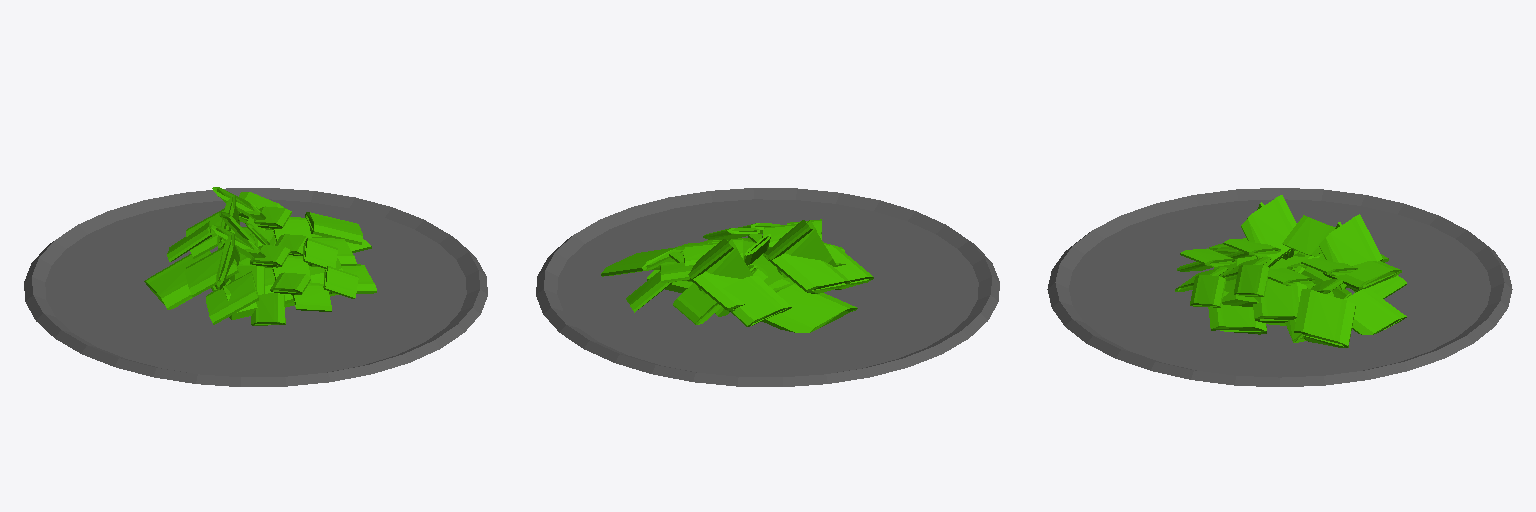
File: cutBeans.obj
The picture shows the model from 3 angles: view 1: azimuth 30°, elevation 25°; view 2: azimuth 150°, elevation 25°; view 3: azimuth 270°, elevation 25°; orthographic projection.
Parts seen in each view (by area): view 1: Circle, Cube.001, Cube.010, Cube.017, Cube.002, Cube.013, Cube, Cube.012, Cube.014, Cube.020, Cube.006, Cube.015 (+8 smaller); view 2: Circle, Cube.001, Cube.006, Cube.017, Cube.002, Cube.004, Cube.033, Cube.011, Cube.029, Cube, Cube.010, Cube.005 (+3 smaller); view 3: Circle, Cube.002, Cube.023, Cube.037, Cube.005, Cube.016, Cube.009, Cube.025, Cube.007, Cube, Cube.014, Cube.020 (+4 smaller).
Boxes of the visible parts, x1,y1,x2,y2 form: Circle: [24, 188, 487, 386]; Cube.001: [144, 251, 210, 309]; Cube.010: [206, 271, 258, 324]; Cube.017: [185, 247, 238, 296]; Cube.002: [305, 212, 362, 244]; Cube.013: [251, 293, 285, 325]; Cube: [211, 242, 342, 319]; Cube.012: [292, 283, 331, 311]; Cube.014: [323, 266, 358, 298]; Cube.020: [303, 238, 337, 268]; Cube.006: [167, 221, 213, 261]; Cube.015: [270, 272, 310, 294]; Circle: [536, 188, 999, 386]; Cube.001: [762, 279, 857, 332]; Cube.006: [723, 276, 791, 326]; Cube.017: [768, 253, 850, 293]; Cube.002: [601, 247, 684, 276]; Cube.004: [673, 283, 721, 324]; Cube.033: [690, 272, 745, 311]; Cube.011: [777, 220, 835, 277]; Cube.029: [698, 238, 752, 316]; Cube: [647, 238, 845, 292]; Cube.010: [826, 245, 873, 289]; Cube.005: [626, 271, 672, 312]; Circle: [1047, 188, 1512, 386]; Cube.002: [1294, 289, 1355, 347]; Cube.023: [1241, 195, 1296, 267]; Cube.037: [1319, 214, 1382, 289]; Cube.005: [1344, 288, 1406, 334]; Cube.016: [1253, 281, 1307, 322]; Cube.009: [1208, 291, 1266, 334]; Cube.025: [1282, 215, 1335, 256]; Cube.007: [1323, 261, 1401, 289]; Cube: [1214, 248, 1322, 325]; Cube.014: [1190, 275, 1225, 307]; Cube.020: [1234, 265, 1269, 296].
Bounding box in the file's own units: 0.2099 × 0.0406 × 0.2099.